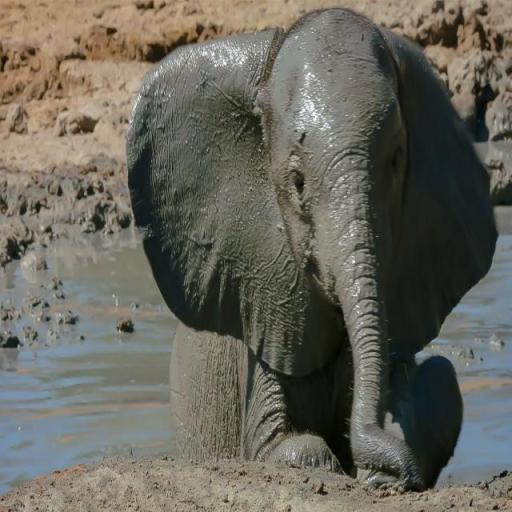Elephant: (125, 6, 499, 492)
